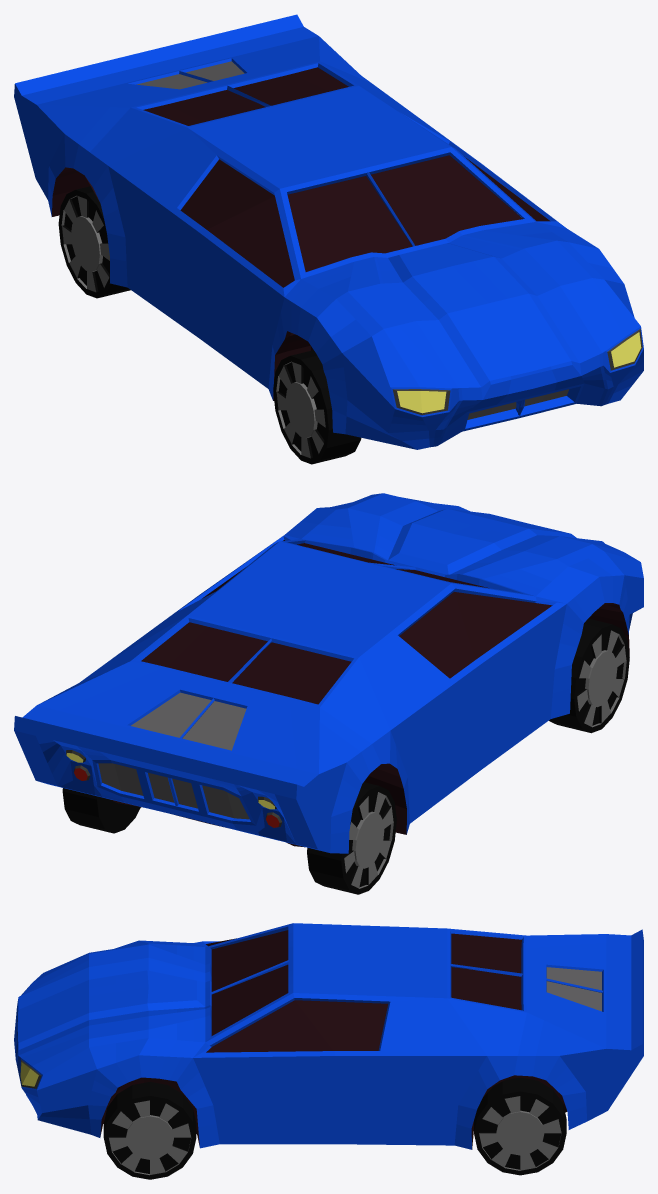
Rendered from AutoEjeX.fbx.
The picture shows the model from 3 angles, top to bottom: view 1: azimuth 30°, elevation 25°; view 2: azimuth 150°, elevation 25°; view 3: azimuth 270°, elevation 25°; orthographic projection. The views are drawn at different scales.
Visible parts, largest first — view 1: Cubo, RuedaFrontalDerecha, RuedaTraseraDerecha; view 2: Cubo, RuedaTraseraDerecha, RuedaFrontalDerecha, RuedaFrontalIzquierda.001; view 3: Cubo, RuedaFrontalIzquierda, RuedaFrontalIzquierda.001.
Boxes of the visible parts, x1,y1,x2,y2 form: Cubo: (14, 14, 643, 449); RuedaFrontalDerecha: (273, 350, 361, 464); RuedaTraseraDerecha: (58, 186, 130, 298); Cubo: (14, 493, 643, 853); RuedaTraseraDerecha: (307, 782, 396, 894); RuedaFrontalDerecha: (549, 618, 629, 733); RuedaFrontalIzquierda.001: (62, 788, 140, 833); Cubo: (14, 923, 643, 1149); RuedaFrontalIzquierda: (103, 1082, 196, 1179); RuedaFrontalIzquierda.001: (474, 1077, 566, 1175).
Size of the model in its own units: 271 by 76.34 by 125.
